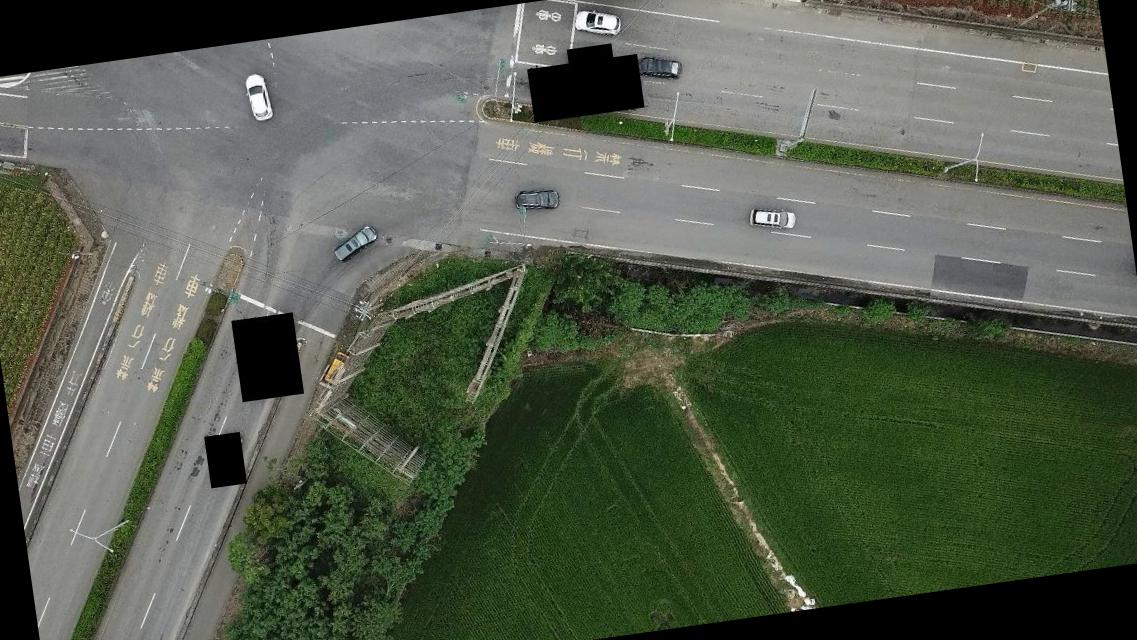vehicle: (747, 200, 799, 237), (571, 4, 622, 40), (241, 70, 276, 122), (331, 226, 380, 263), (632, 51, 684, 85), (512, 186, 564, 216), (322, 350, 353, 386)
